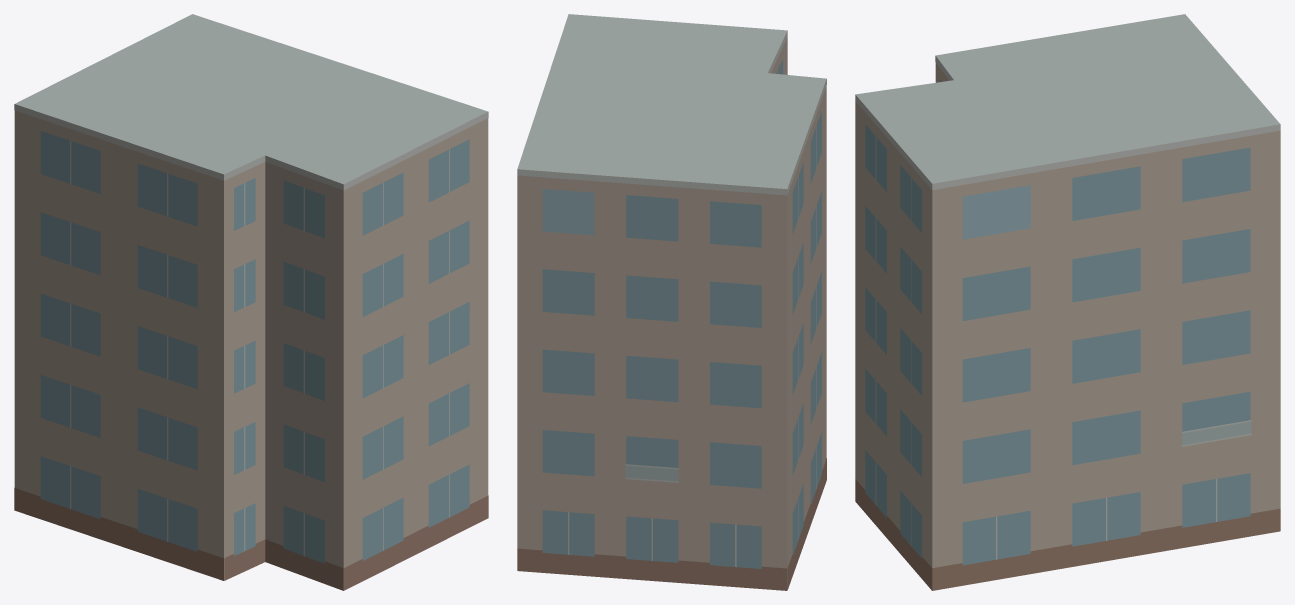
File: survey-upis-32962056.glb
3 renders of one model, left to right at view 1: azimuth 30°, elevation 25°; view 2: azimuth 150°, elevation 25°; view 3: azimuth 270°, elevation 25°, orthographic.
Parts seen in each view (by area): view 1: survey-upis-32962056.tmp; view 2: survey-upis-32962056.tmp; view 3: survey-upis-32962056.tmp.
Boxes of the visible parts, box(x1,y1,x2,y2) form: survey-upis-32962056.tmp: box(14, 14, 488, 590); survey-upis-32962056.tmp: box(517, 14, 826, 590); survey-upis-32962056.tmp: box(855, 14, 1280, 590).
Size of the model in its own units: 14.15 by 15.8 by 14.97.
